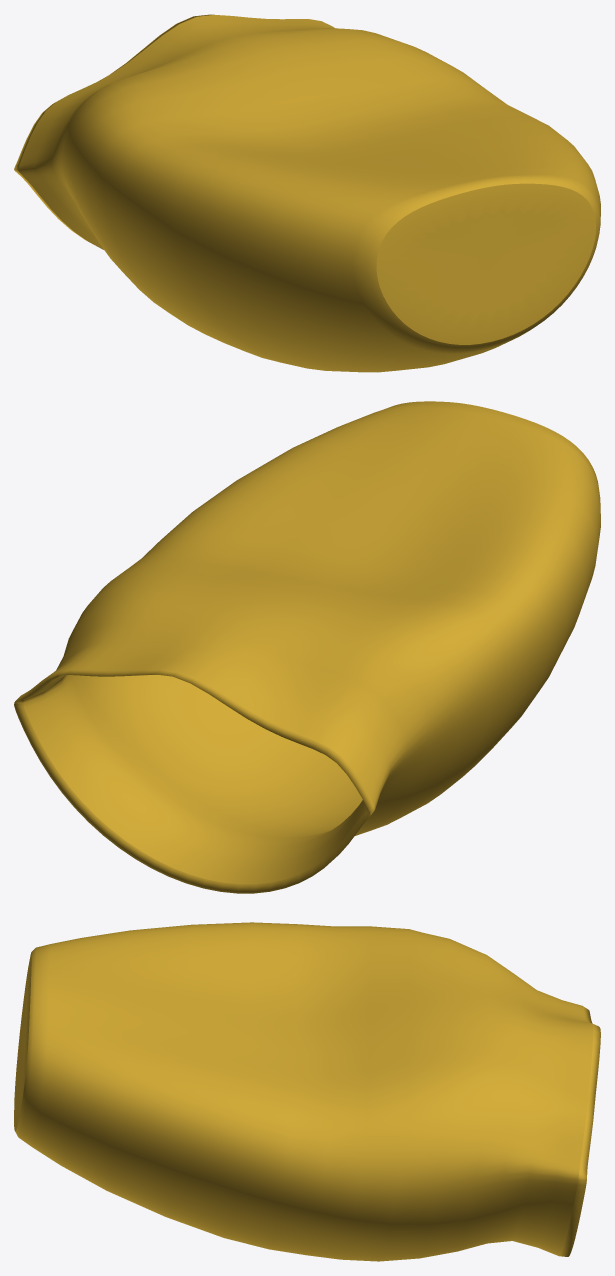
Rendered from cuval.fbx.
3 views of the same model, one above another, from view 1: azimuth 30°, elevation 25°; view 2: azimuth 150°, elevation 25°; view 3: azimuth 270°, elevation 25° (orthographic). The views are drawn at different scales.
Visible parts, largest first — view 1: cuval; view 2: cuval; view 3: cuval.
Boxes of the visible parts, x1=… form: cuval: x1=14, y1=14, x2=600, y2=372; cuval: x1=14, y1=401, x2=600, y2=893; cuval: x1=14, y1=922, x2=600, y2=1261.
Bounding box in the file's own units: 852 × 559 × 1124.
